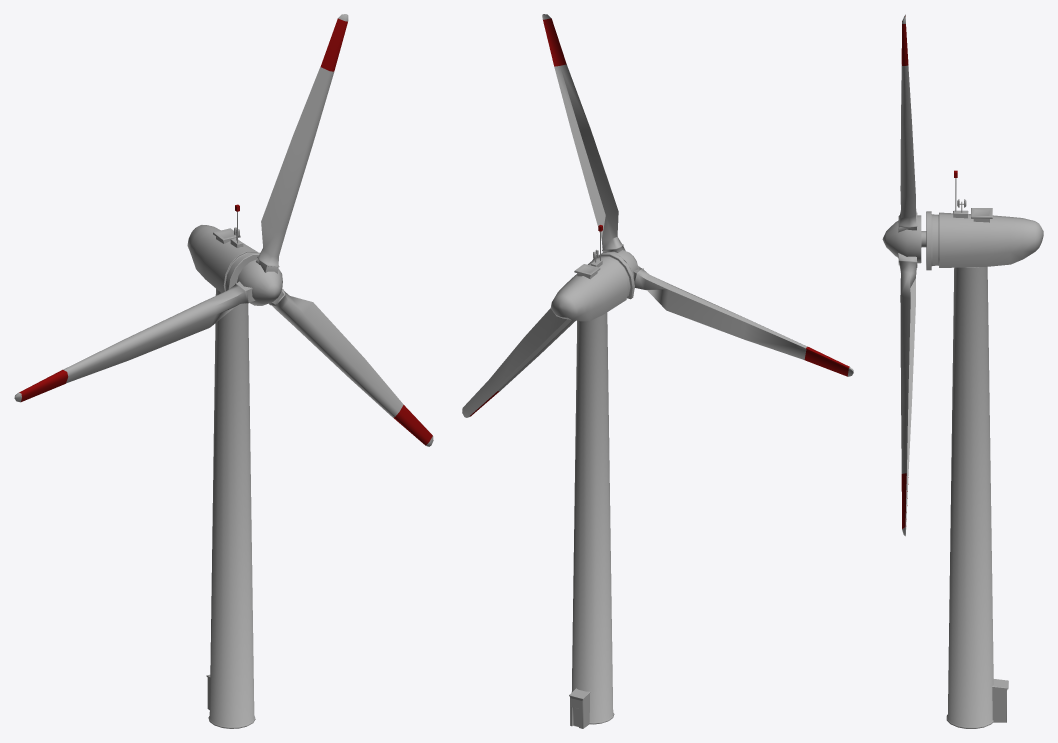
The picture shows the model from 3 angles, left to right: view 1: azimuth 30°, elevation 25°; view 2: azimuth 150°, elevation 25°; view 3: azimuth 270°, elevation 25°; orthographic projection. The views are drawn at different scales.
Visible parts, largest first — view 1: Wind_turbine_001, Wind_turbine_001_Blades; view 2: Wind_turbine_001, Wind_turbine_001_Blades; view 3: Wind_turbine_001, Wind_turbine_001_Blades.
Part boxes in pixels (x1,y1,x2,y2): Wind_turbine_001: (187,204,259,728); Wind_turbine_001_Blades: (14,14,433,446); Wind_turbine_001: (550,225,634,728); Wind_turbine_001_Blades: (462,14,853,417); Wind_turbine_001: (926,170,1043,728); Wind_turbine_001_Blades: (882,14,926,536).
Size of the model in its own units: 4.21 by 6.81 by 1.33.
